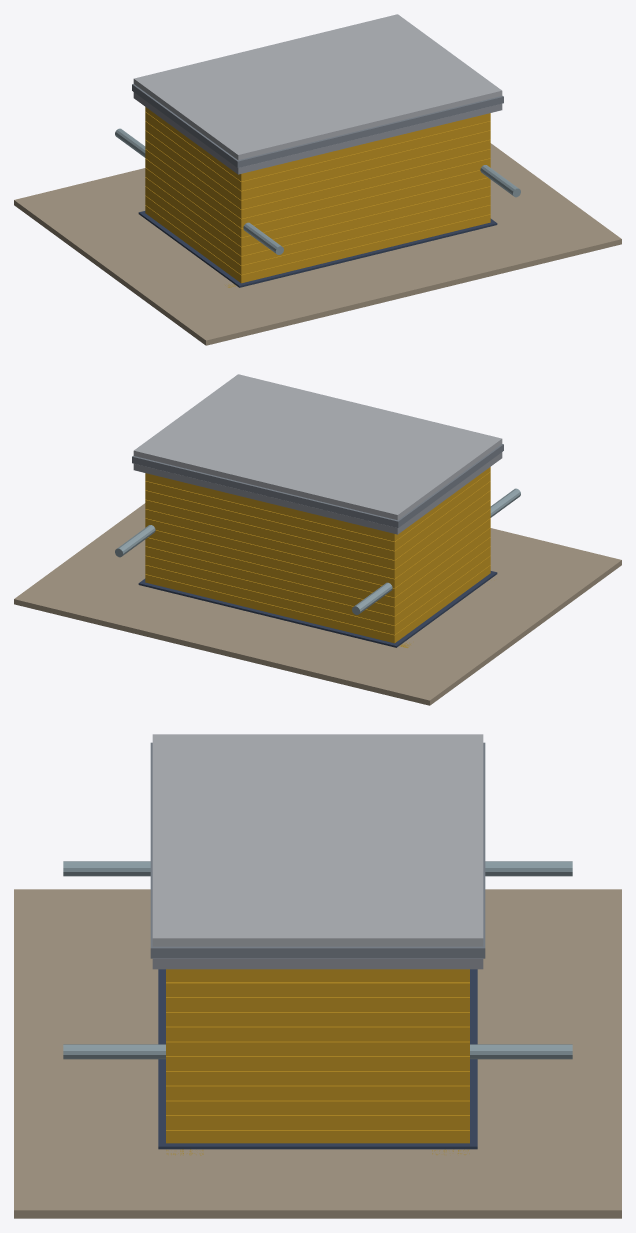
Rendered from stage_06_roof.glb.
3 renders of one model, top to bottom at view 1: azimuth 30°, elevation 25°; view 2: azimuth 150°, elevation 25°; view 3: azimuth 270°, elevation 25°, orthographic. The views are drawn at different scales.
Parts seen in each view (by area): view 1: world; view 2: world; view 3: world.
Boxes of the visible parts, <box> form: world: <box>14,14,621,345</box>; world: <box>14,374,621,705</box>; world: <box>14,734,621,1218</box>.
Bounding box in the file's own units: 10 × 3.9 × 8.
